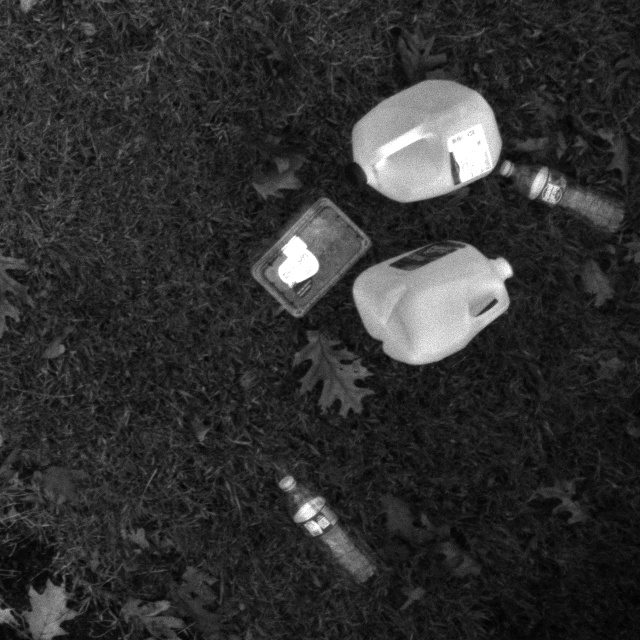bottle: (266, 464, 372, 591), (491, 148, 631, 241)
can: (336, 216, 529, 367), (345, 60, 509, 210)
container: (236, 187, 372, 333)
